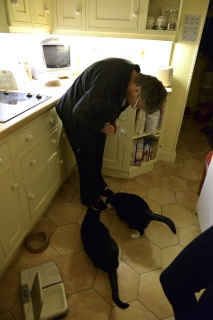Cat: (79, 196, 130, 311), (102, 192, 179, 242)
